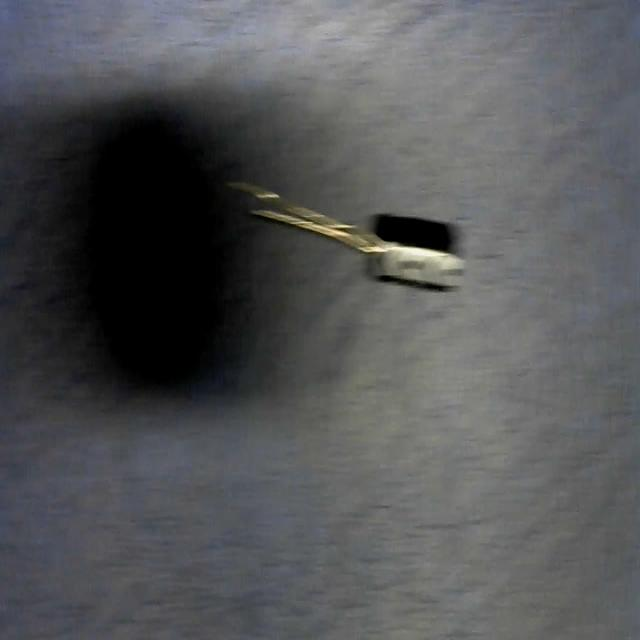capacitor: (230, 173, 463, 300)
